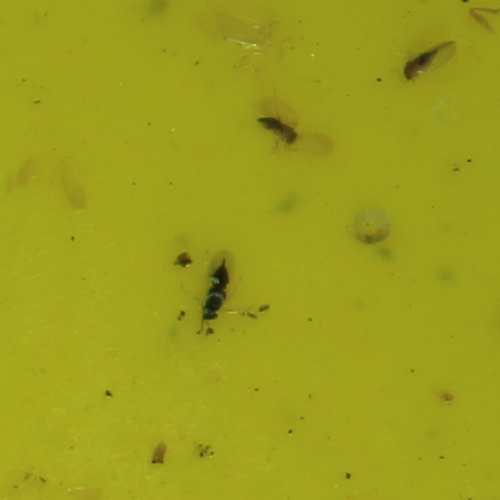psylla: (400, 40, 460, 86), (259, 113, 300, 150)
wasp: (199, 258, 234, 324)
